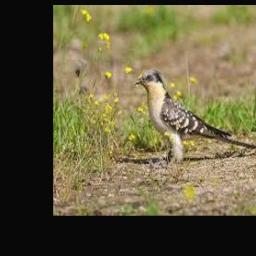Cuckoo: (135, 69, 256, 164)
